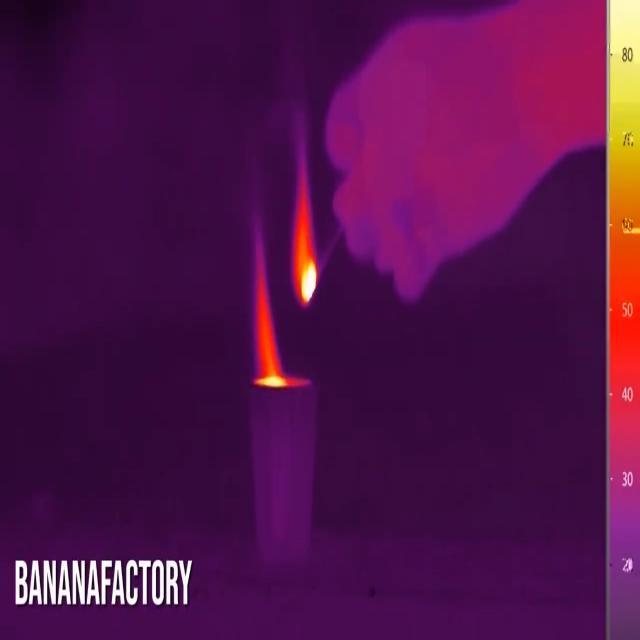fire: (252, 254, 290, 392), (292, 190, 322, 313)
